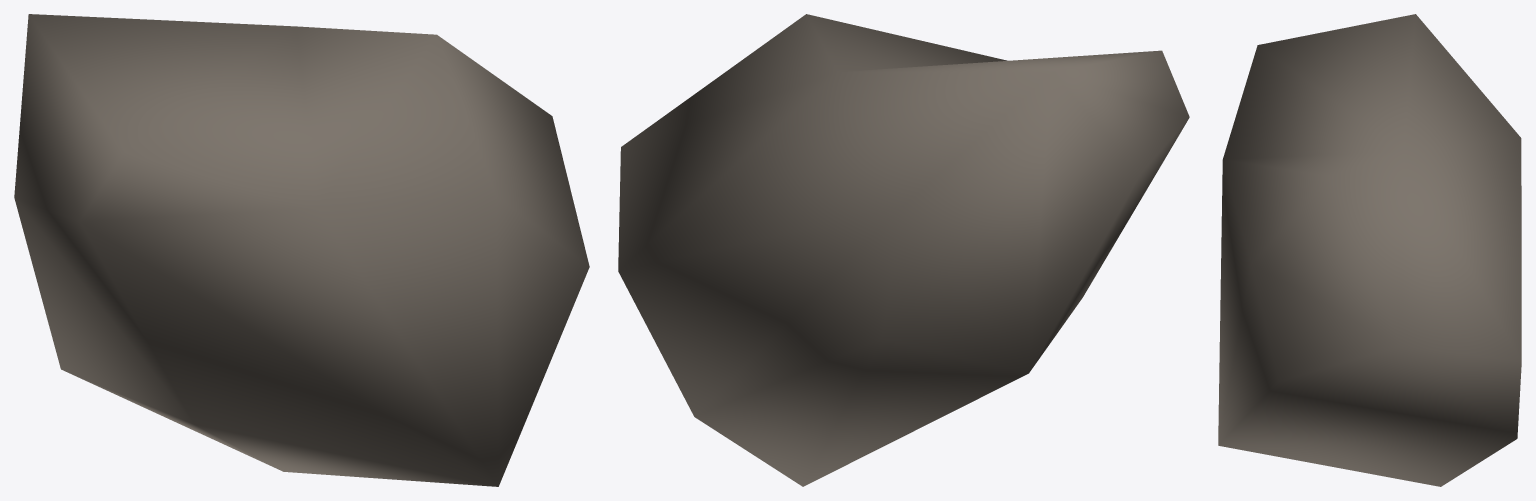
The model's file is SM_SmallRock_005.fbx.
3 views of the same model, side by side, from view 1: azimuth 30°, elevation 25°; view 2: azimuth 150°, elevation 25°; view 3: azimuth 270°, elevation 25° (orthographic). The views are drawn at different scales.
Parts seen in each view (by area): view 1: SM_SmallRock_005; view 2: SM_SmallRock_005; view 3: SM_SmallRock_005.
Boxes of the visible parts, box(x1,y1,x2,y2) form: SM_SmallRock_005: box(14, 14, 589, 486); SM_SmallRock_005: box(618, 14, 1189, 486); SM_SmallRock_005: box(1218, 14, 1521, 486).
Size of the model in its own units: 38.84 by 25.28 by 34.83.
1 material, 1 textured.
